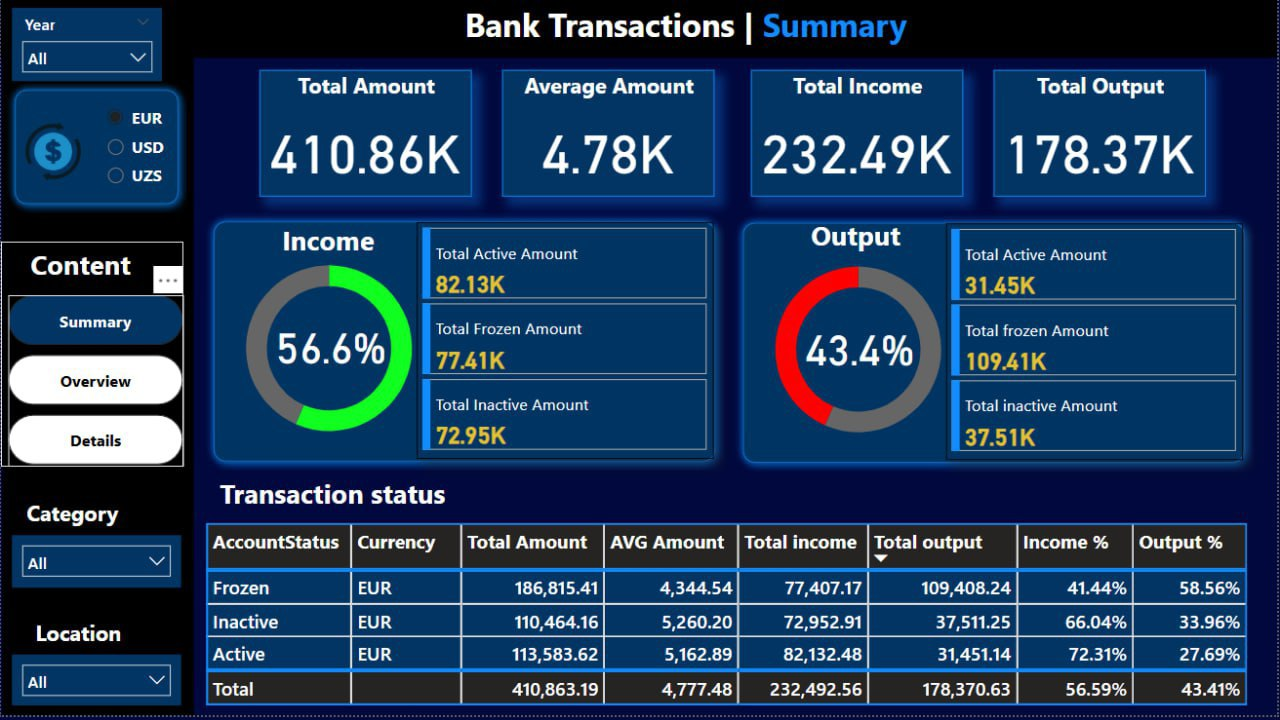

This screenshot's page, from the dashboard's own definition file:
{"tool":"powerbi","page":{"name":"Summary","canvas":[1280,720],"ordinal":0},"visuals":[{"type":"shape","box":[0,0,1280.3,60.4],"z":0},{"type":"shape","box":[204.5,215.4,521.4,259.3],"z":0,"group":"g1"},{"type":"shape","box":[735.5,216.8,521.4,259.3],"z":0,"group":"g2"},{"type":"pageNavigator","box":[7.8,298.1,175.2,172.6],"z":0,"group":"g4"},{"type":"shape","box":[1.3,0,192.2,720.6],"z":1000},{"type":"textbox","box":[0,244.5,159.5,47.1],"z":1000,"group":"g4"},{"type":"textbox","box":[440.2,0,492.7,59.9],"z":2000},{"type":"card","title":"Total Amount","fields":{"Values":["Sum(Sheet1.Amount)"]},"box":[259.1,71.9,212.6,127.3],"z":3000},{"type":"shape","box":[5.5,83.7,182.5,133.1],"z":4000},{"type":"slicer","fields":{"Values":["Sheet1.Currency"]},"box":[93.9,99.9,96.1,100.2],"z":5000},{"type":"image","box":[9.1,100.2,85.1,101.5],"z":6000},{"type":"card","title":"Total Income","fields":{"Values":["Sheet1.Total income"]},"box":[751.7,71.9,212.6,127.3],"z":7000},{"type":"card","title":"Total Output","fields":{"Values":["Sheet1.Total output"]},"box":[995.8,71.9,212.6,127.3],"z":8000},{"type":"card","title":"Average Amount","fields":{"Values":["Sheet1.AVG Amount"]},"box":[503.1,71.9,212.6,127.3],"z":9000},{"type":"group","id":"g1","title":"Group 1","box":[204.5,215.4,521.4,259.3],"z":10000},{"type":"group","id":"g2","title":"Group 1","box":[735.5,216.8,521.4,259.3],"z":11000},{"type":"donutChart","fields":{"Y":["Sum(Sheet1.Amount)"],"Category":["Sheet1.TransactionType"]},"box":[221,242.8,218.2,219.6],"z":11000,"group":"g1"},{"type":"donutChart","fields":{"Y":["Sum(Sheet1.Amount)"],"Category":["Sheet1.TransactionType"]},"box":[752,244.2,218.2,219.6],"z":11000,"group":"g2"},{"type":"cardVisual","fields":{"Data":["Sheet1.Total Active Amount","Sheet1.Total Frozen Amount","Sheet1.Total Inactive Amount"]},"box":[417.2,225,297.8,237.4],"z":12000,"group":"g1"},{"type":"cardVisual","fields":{"Data":["Sheet1.Total output Active Amount","Sheet1.Total output frozen Amount","Sheet1.Total output inactive Amount"]},"box":[948.2,226.4,297.8,237.4],"z":12000,"group":"g2"},{"type":"tableEx","fields":{"Values":["Sheet1.AccountStatus","Sheet1.Currency","Sheet1.Total Amount","Sheet1.AVG Amount","Sheet1.Total income","Sheet1.Total output","Sheet1.Income %","Sheet1.Output %"]},"box":[199.2,522.6,1063.2,193.2],"z":12000},{"type":"card","fields":{"Values":["Sheet1.Income %"]},"box":[267.6,312.8,124.9,70],"z":13000,"group":"g1"},{"type":"card","fields":{"Values":["Sheet1.Output %"]},"box":[798.6,314.2,124.9,70],"z":13000,"group":"g2"},{"type":"textbox","box":[199.2,474.7,266.5,47.9],"z":13000},{"type":"textbox","box":[256.1,220.1,145.3,47.9],"z":14000},{"type":"textbox","box":[781.7,215.6,151.2,47.9],"z":15000},{"type":"group","id":"g3","title":"Group 2","box":[5.2,498.2,175.2,213.2],"z":16000},{"type":"slicer","fields":{"Values":["Sheet1.Category"]},"box":[11.2,540.1,169.2,52.4],"z":16000,"group":"g3"},{"type":"group","id":"g4","title":"Group 3","box":[0,244.5,183.1,226.2],"z":17000},{"type":"slicer","fields":{"Values":["Sheet1.Branch"]},"box":[11.2,659.9,169.2,50.9],"z":17000,"group":"g3"},{"type":"slicer","fields":{"Values":["Bank transactions.Year"]},"box":[11,9.8,150.4,73.4],"z":18000},{"type":"textbox","box":[5.2,498.2,133.3,41.9],"z":18000,"group":"g3"},{"type":"textbox","box":[11.2,618,133.3,41.9],"z":19000,"group":"g3"}]}

Visuals, with their boxes in screenshot pixels (x1, y1, x2, y2), scaled from the page's 1280x720 canvas onto the 1280x720 screenshot:
shape: select_region(0, 0, 1279, 60)
shape: select_region(204, 215, 726, 475)
shape: select_region(736, 217, 1257, 476)
pageNavigator: select_region(8, 298, 183, 471)
shape: select_region(1, 0, 194, 719)
textbox: select_region(0, 244, 160, 292)
textbox: select_region(440, 0, 933, 60)
"Total Amount" card: select_region(259, 72, 472, 199)
shape: select_region(6, 84, 188, 217)
slicer - Sheet1.Currency: select_region(94, 100, 190, 200)
image: select_region(9, 100, 94, 202)
"Total Income" card: select_region(752, 72, 964, 199)
"Total Output" card: select_region(996, 72, 1208, 199)
"Average Amount" card: select_region(503, 72, 716, 199)
"Group 1" group: select_region(204, 215, 726, 475)
"Group 1" group: select_region(736, 217, 1257, 476)
donutChart - Sum(Sheet1.Amount) x Sheet1.TransactionType: select_region(221, 243, 439, 462)
donutChart - Sum(Sheet1.Amount) x Sheet1.TransactionType: select_region(752, 244, 970, 464)
cardVisual - Sheet1.Total Active Amount x Sheet1.Total Frozen Amount: select_region(417, 225, 715, 462)
cardVisual - Sheet1.Total output Active Amount x Sheet1.Total output frozen Amount: select_region(948, 226, 1246, 464)
tableEx - Sheet1.AccountStatus x Sheet1.Currency: select_region(199, 523, 1262, 716)
card - Sheet1.Income %: select_region(268, 313, 392, 383)
card - Sheet1.Output %: select_region(799, 314, 924, 384)
textbox: select_region(199, 475, 466, 523)
textbox: select_region(256, 220, 401, 268)
textbox: select_region(782, 216, 933, 264)
"Group 2" group: select_region(5, 498, 180, 711)
slicer - Sheet1.Category: select_region(11, 540, 180, 592)
"Group 3" group: select_region(0, 244, 183, 471)
slicer - Sheet1.Branch: select_region(11, 660, 180, 711)
slicer - Bank transactions.Year: select_region(11, 10, 161, 83)
textbox: select_region(5, 498, 138, 540)
textbox: select_region(11, 618, 144, 660)
